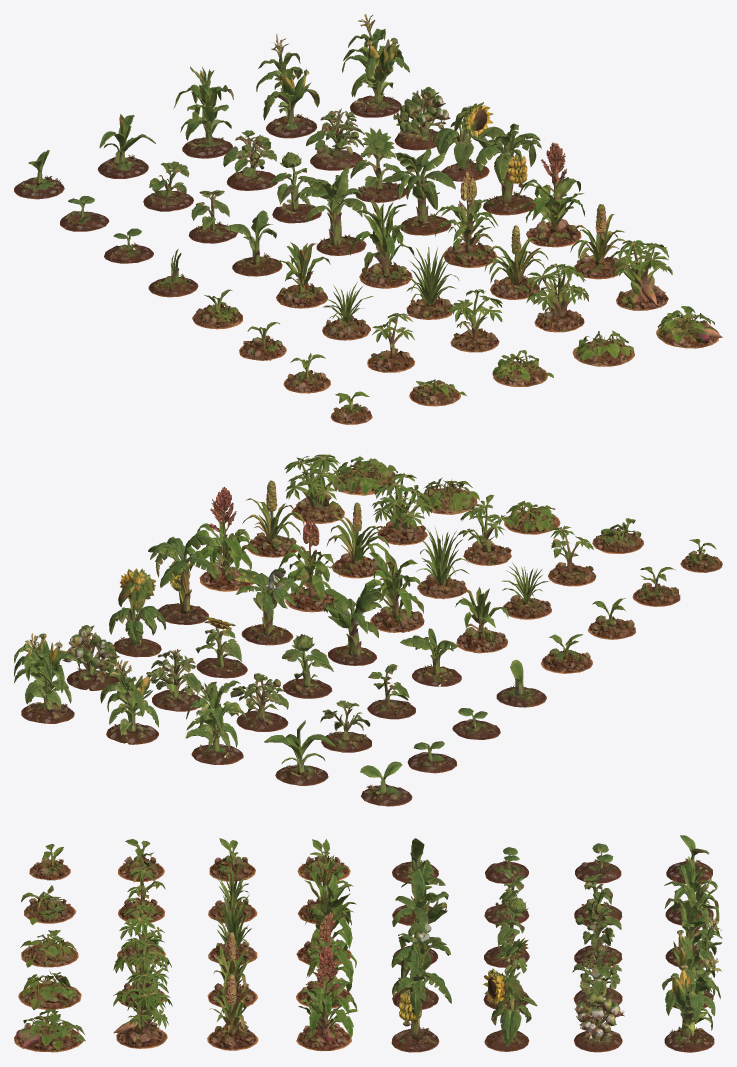
The picture shows the model from 3 angles, top to bottom: view 1: azimuth 30°, elevation 25°; view 2: azimuth 150°, elevation 25°; view 3: azimuth 270°, elevation 25°; orthographic projection. The views are drawn at different scales.
Parts seen in each view (by area): view 1: platano_05_maduro, sorgo_05_maduro, maiz_05_maduro, platano_04_desarrollo, maiz_04_desarrollo, sorgo_04_desarrollo, sorgo_03_adulto, yuca_05_maduro, yuca_04_desarrollo, platano_03_adulto, maiz_03_adulto, girasol_05_maduro (+28 smaller); view 2: maiz_05_maduro, sorgo_05_maduro, platano_05_maduro, maiz_03_adulto, girasol_05_maduro, maiz_04_desarrollo, sorgo_03_adulto, yuca_05_maduro, yuca_04_desarrollo, platano_04_desarrollo, sorgo_04_desarrollo, platano_03_adulto (+28 smaller); view 3: sorgo_05_maduro, maiz_05_maduro, platano_05_maduro, yuca_05_maduro, girasol_05_maduro, algodon_05_maduro, batata_05_maduro, mijo_05_maduro, maiz_03_adulto, sorgo_03_adulto, yuca_04_desarrollo, platano_04_desarrollo (+28 smaller).
Part boxes in pixels (<box>): platano_05_maduro: <box>475,123,541,215</box>; sorgo_05_maduro: <box>518,142,585,247</box>; maiz_05_maduro: <box>342,14,409,117</box>; platano_04_desarrollo: <box>381,148,455,235</box>; maiz_04_desarrollo: <box>256,34,319,138</box>; sorgo_04_desarrollo: <box>434,171,498,267</box>; sorgo_03_adulto: <box>350,200,414,288</box>; yuca_05_maduro: <box>610,240,672,310</box>; yuca_04_desarrollo: <box>524,263,588,332</box>; platano_03_adulto: <box>295,166,366,255</box>; maiz_03_adulto: <box>173,66,233,158</box>; girasol_05_maduro: <box>433,102,493,181</box>; maiz_05_maduro: <box>14,633,79,723</box>; sorgo_05_maduro: <box>190,487,259,591</box>; platano_05_maduro: <box>148,534,217,624</box>; maiz_03_adulto: <box>185,680,246,764</box>; girasol_05_maduro: <box>109,568,166,657</box>; maiz_04_desarrollo: <box>100,659,158,744</box>; sorgo_03_adulto: <box>360,548,424,632</box>; yuca_05_maduro: <box>284,454,345,523</box>; yuca_04_desarrollo: <box>371,473,433,545</box>; platano_04_desarrollo: <box>234,567,299,645</box>; sorgo_04_desarrollo: <box>278,519,339,612</box>; platano_03_adulto: <box>324,588,381,665</box>; sorgo_05_maduro: <box>296,945,357,1051</box>; maiz_05_maduro: <box>662,955,721,1052</box>; platano_05_maduro: <box>391,944,451,1052</box>; yuca_05_maduro: <box>113,971,172,1048</box>; girasol_05_maduro: <box>483,968,537,1051</box>; algodon_05_maduro: <box>574,990,624,1052</box>; batata_05_maduro: <box>14,1008,85,1052</box>; mijo_05_maduro: <box>207,973,258,1050</box>; maiz_03_adulto: <box>664,876,722,966</box>; sorgo_03_adulto: <box>296,874,356,964</box>; yuca_04_desarrollo: <box>113,937,171,1007</box>; platano_04_desarrollo: <box>391,911,450,1009</box>.
Size of the model in its own units: 8.61 by 1.98 by 13.19.
Materials: 2 (2 with a texture image).
